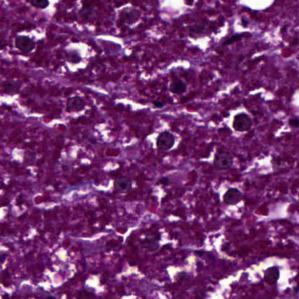inflammation: (222, 103, 261, 140), (145, 121, 186, 156), (214, 182, 248, 219), (58, 43, 96, 72)
